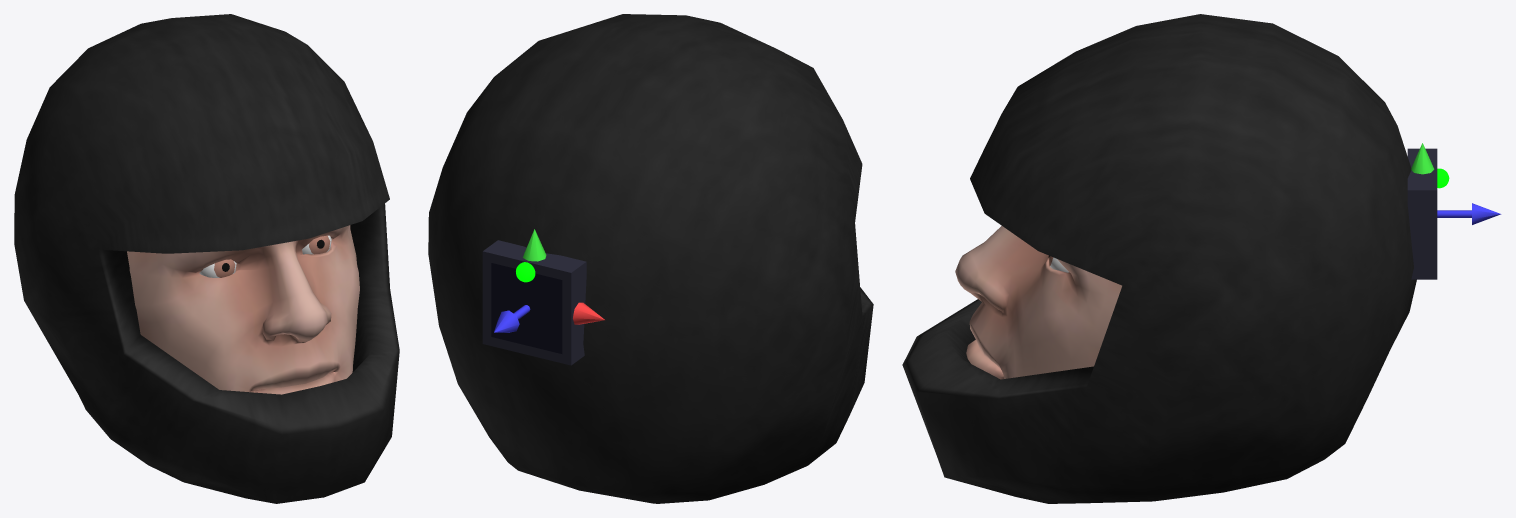
The model's file is headfs.glb.
3 renders of one model, left to right at view 1: azimuth 30°, elevation 25°; view 2: azimuth 150°, elevation 25°; view 3: azimuth 270°, elevation 25°, orthographic. The views are drawn at different scales.
Parts seen in each view (by area): view 1: WS_V3; view 2: WS_V3, Body, Screen, Axis_Z; view 3: WS_V3, Body.
Boxes of the visible parts, box(x1,y1,x2,y2) form: WS_V3: box(14, 14, 399, 503); WS_V3: box(428, 14, 873, 503); Body: box(482, 240, 586, 365); Screen: box(491, 263, 562, 353); Axis_Z: box(494, 305, 530, 332); WS_V3: box(902, 14, 1416, 503); Body: box(1407, 148, 1437, 279).
Bounding box in the file's own units: 4.27 × 4.97 × 6.07.
Materials: 11 (1 with a texture image).
